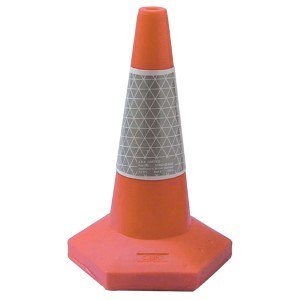traffic cone: (68, 6, 232, 292)
